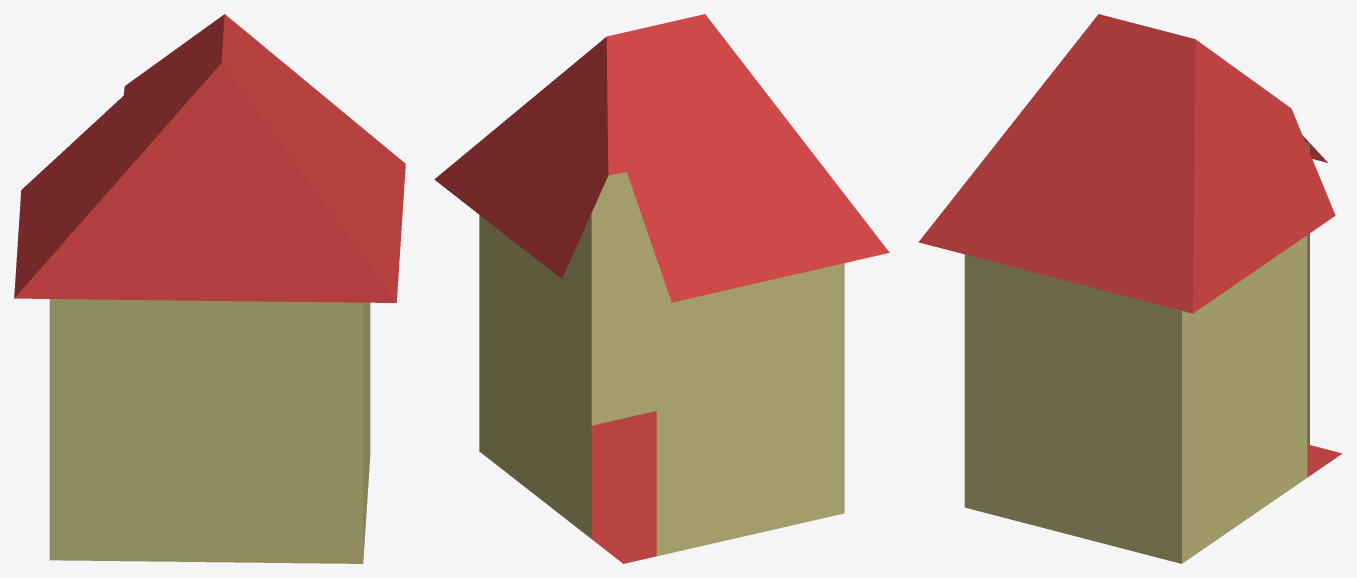
3 views of the same model, side by side, from view 1: azimuth 30°, elevation 25°; view 2: azimuth 150°, elevation 25°; view 3: azimuth 270°, elevation 25° (orthographic). The views are drawn at different scales.
Parts seen in each view (by area): view 1: group_5, group_3, group_4; view 2: group_5, group_3, group_6, group_4; view 3: group_5, group_3, group_4, group_6.
Boxes of the visible parts, box(x1,y1,x2,y2) form: group_5: box(49, 299, 370, 563); group_3: box(14, 14, 405, 302); group_4: box(14, 162, 54, 296); group_5: box(479, 172, 844, 556); group_3: box(434, 14, 889, 302); group_6: box(591, 411, 656, 563); group_4: box(436, 134, 888, 301); group_5: box(964, 142, 1309, 563); group_3: box(918, 14, 1335, 313); group_4: box(1193, 147, 1333, 312); group_6: box(1307, 444, 1342, 477).
Size of the model in its own units: 10.84 by 9.43 by 11.24.
